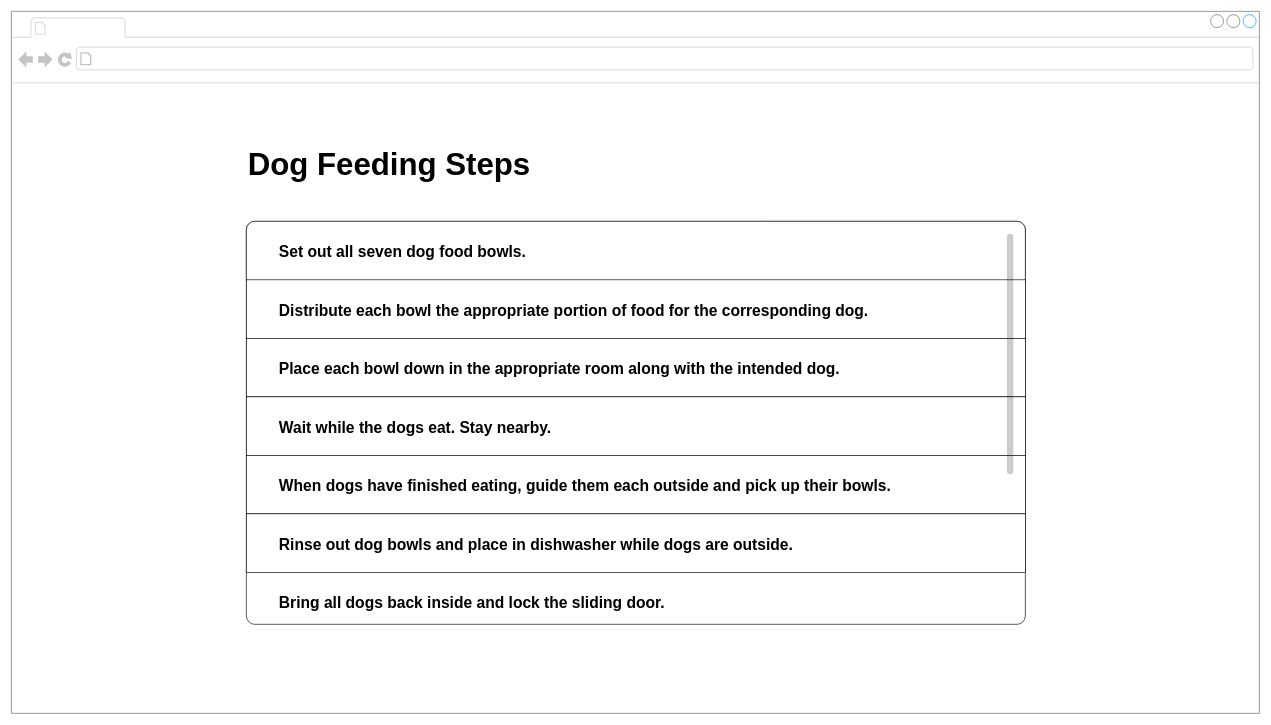
The diagram is 1271 pixels wide and 725 high, and some of its shapes have lost their labels. The centre of each missing label's shape, as x and y in pixels:
BettrMe: (x=86, y=27)
https://www.bettrme.com: (x=176, y=58)
